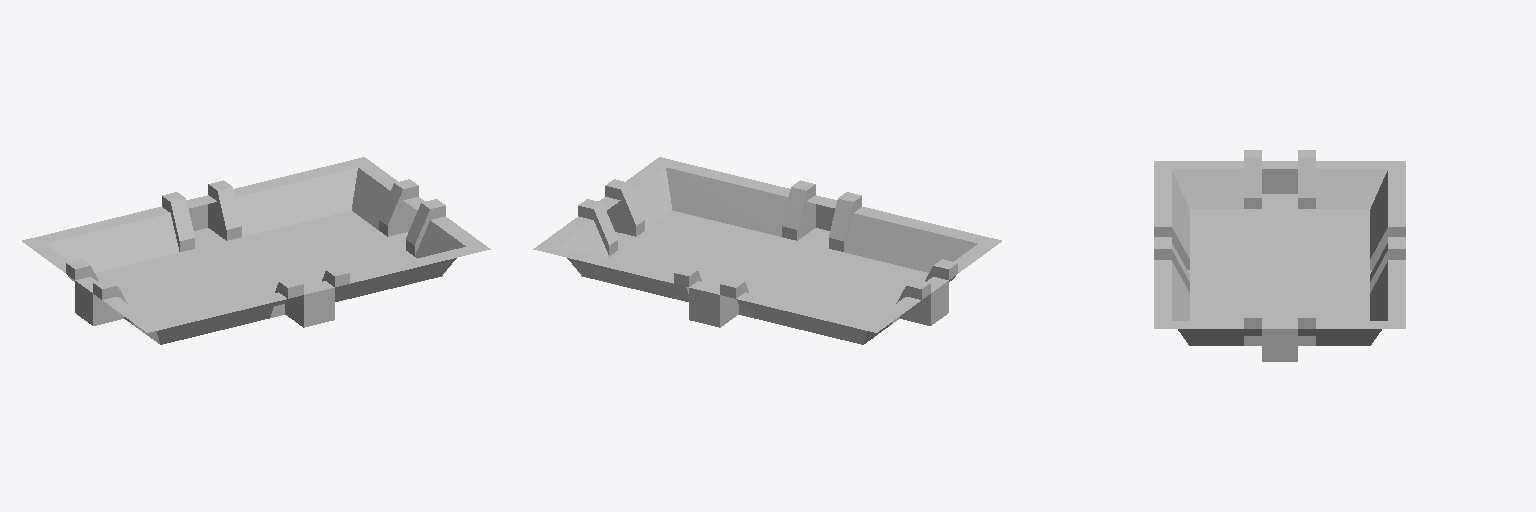
The model's file is room.obj.
3 renders of one model, left to right at view 1: azimuth 30°, elevation 25°; view 2: azimuth 150°, elevation 25°; view 3: azimuth 270°, elevation 25°, orthographic.
Parts seen in each view (by area): view 1: Room_Cube; view 2: Room_Cube; view 3: Room_Cube.
Part boxes in pixels (left/top/right/bottom): Room_Cube: left=22, top=157, right=490, bottom=344; Room_Cube: left=533, top=157, right=1001, bottom=344; Room_Cube: left=1154, top=150, right=1405, bottom=361.
Bounding box in the file's own units: 22 × 2.67 × 14.01.